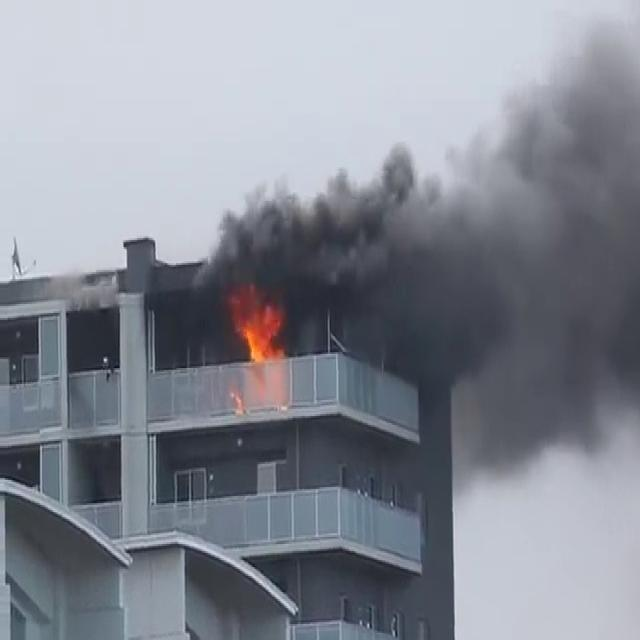Fire: (224, 284, 292, 370)
Smoke: (185, 62, 640, 414)
